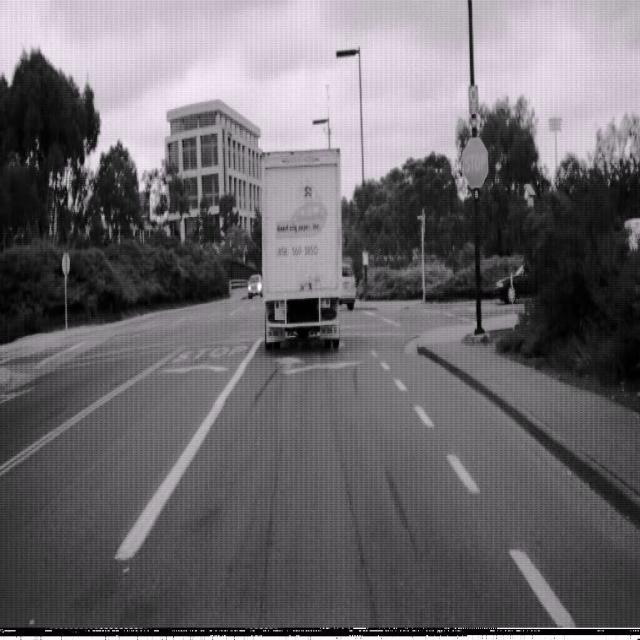stop: (461, 135, 489, 189)
